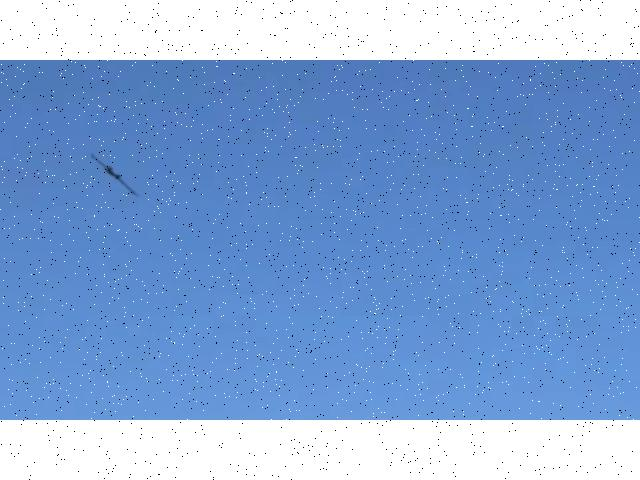Anti-Drone: (84, 144, 144, 204)
